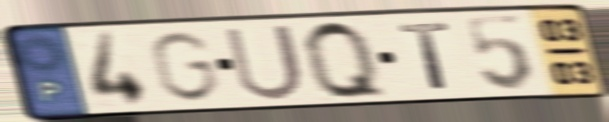4: (87, 29, 151, 110)
5: (462, 12, 538, 94)
G: (145, 29, 223, 105)
Q: (299, 17, 393, 102)
T: (395, 20, 456, 92)
U: (220, 21, 308, 103)
